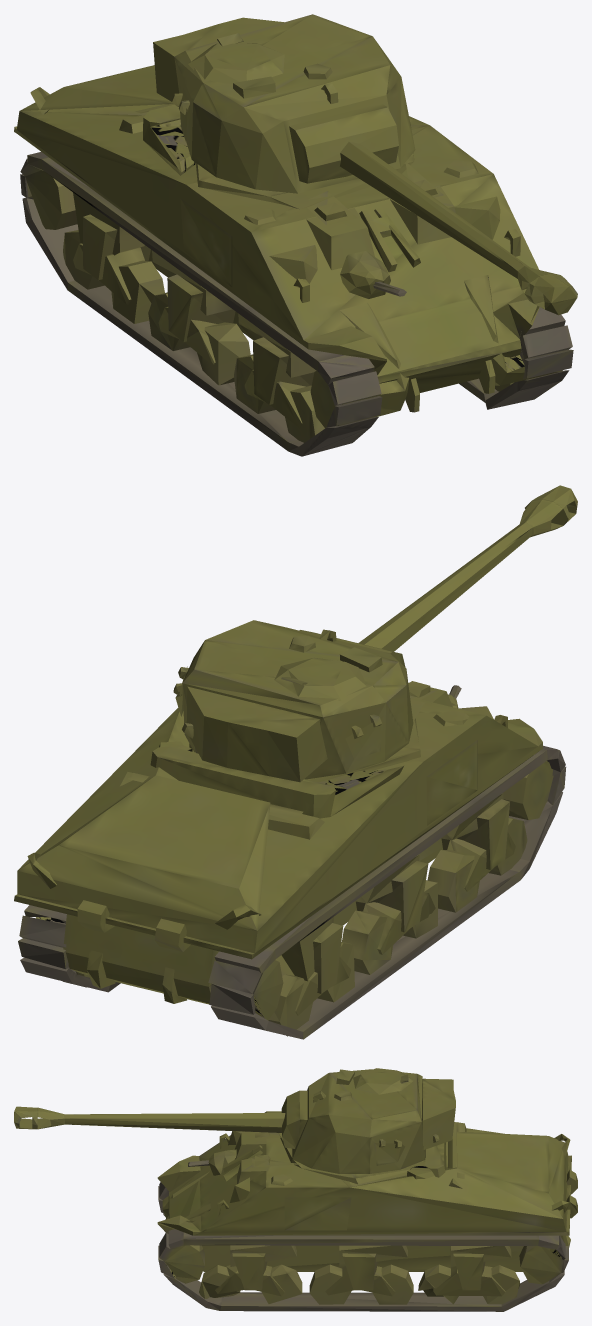
File: bulge_british_armor_0.glb
The picture shows the model from 3 angles, top to bottom: view 1: azimuth 30°, elevation 25°; view 2: azimuth 150°, elevation 25°; view 3: azimuth 270°, elevation 25°; orthographic projection. The views are drawn at different scales.
Visible parts, largest first — view 1: geometry_0; view 2: geometry_0; view 3: geometry_0.
Boxes of the visible parts, <box> form: geometry_0: <box>14,14,577,456</box>; geometry_0: <box>14,485,577,1039</box>; geometry_0: <box>14,1068,577,1311</box>.
Size of the model in its own units: 0.4879 by 0.5346 by 1.47.
Materials: 1 (1 with a texture image).
